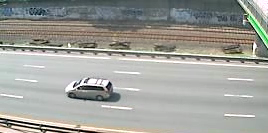car: (63, 74, 116, 102)
